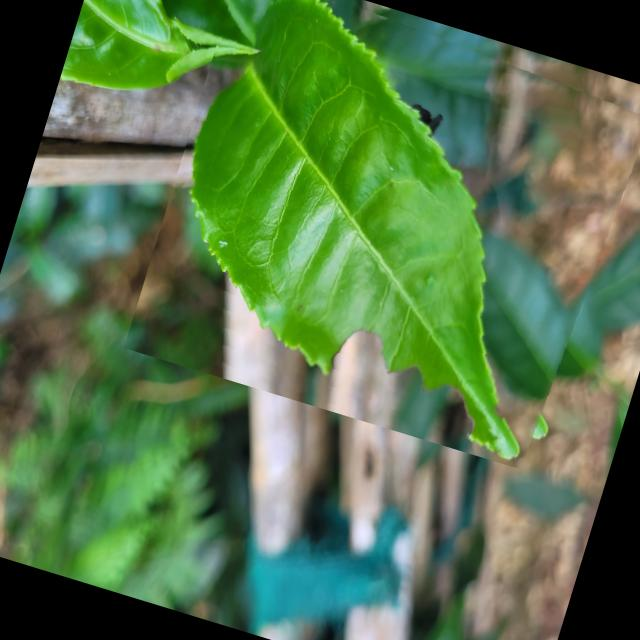Category D(7+ days, Not for Tea): (123, 0, 640, 474)
